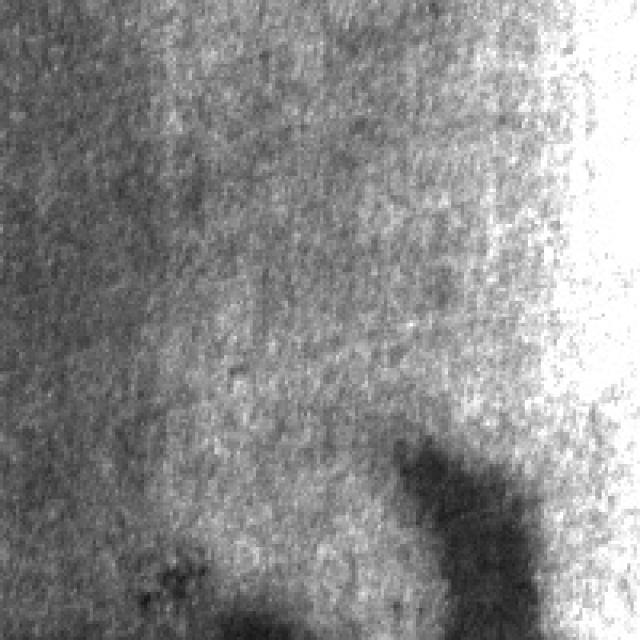patches: (387, 442, 538, 636)
